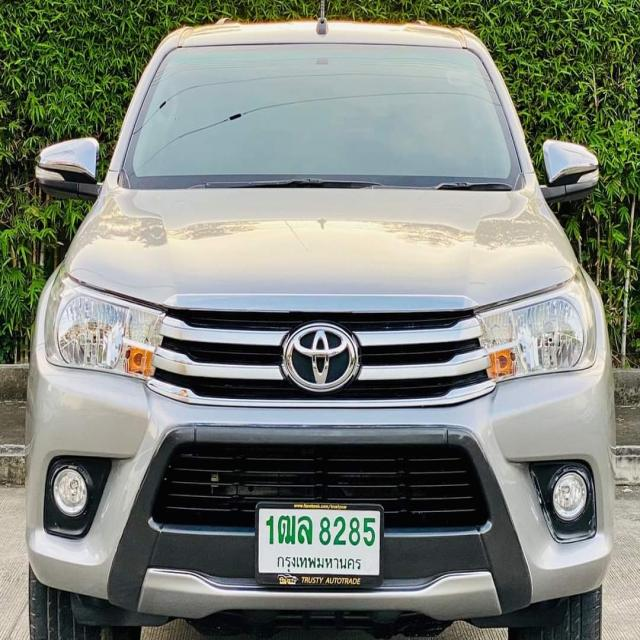license_plate: (254, 494, 381, 590)
